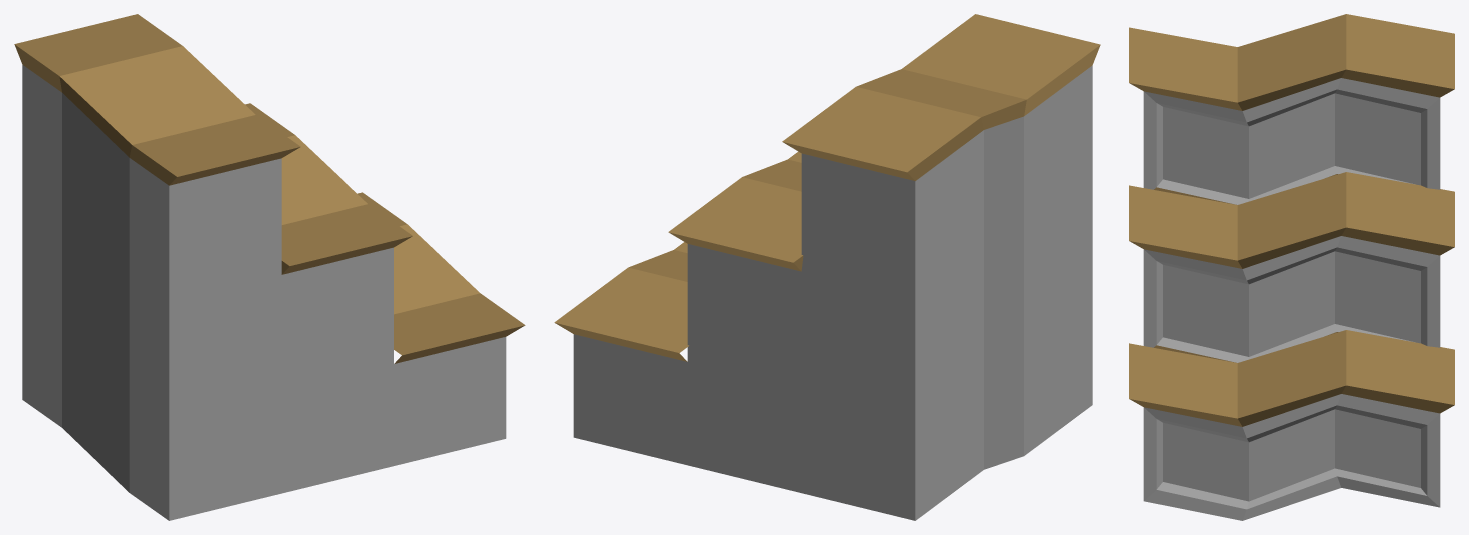
The model's file is home-stairs.glb.
The picture shows the model from 3 angles, left to right: view 1: azimuth 30°, elevation 25°; view 2: azimuth 150°, elevation 25°; view 3: azimuth 270°, elevation 25°; orthographic projection. The views are drawn at different scales.
Parts seen in each view (by area): view 1: Cube; view 2: Cube; view 3: Cube.
Part boxes in pixels (bbox=[...]): Cube: bbox=[14, 14, 525, 520]; Cube: bbox=[554, 14, 1100, 520]; Cube: bbox=[1129, 14, 1454, 520].
Bounding box in the file's own units: 2.6 × 2.6 × 2.2.
